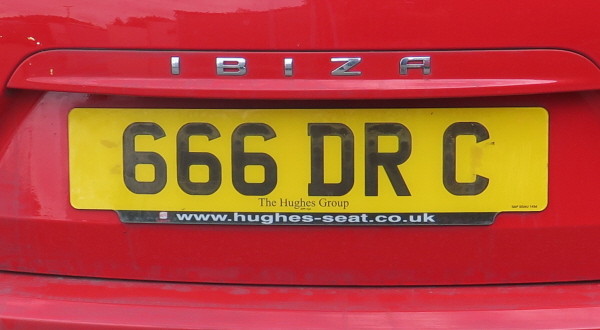license_plate: (68, 107, 549, 214)
